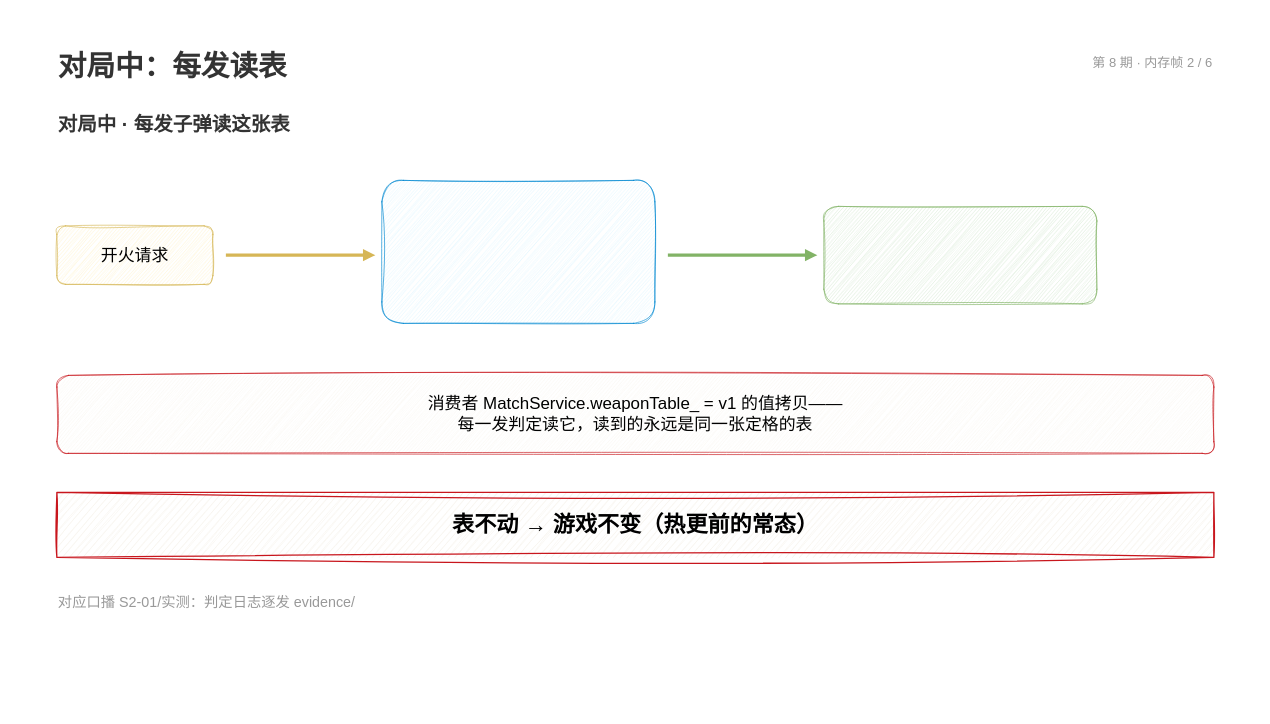
This 1270x724 diagram has some shape labels left out. Here are the shapes that lost their labels. From the top down, the centre of each, then its label:
pixel 518 251: [ v1 表 ] 伤害 25
pixel 960 255: 弹着点 飘字 伤害=25
